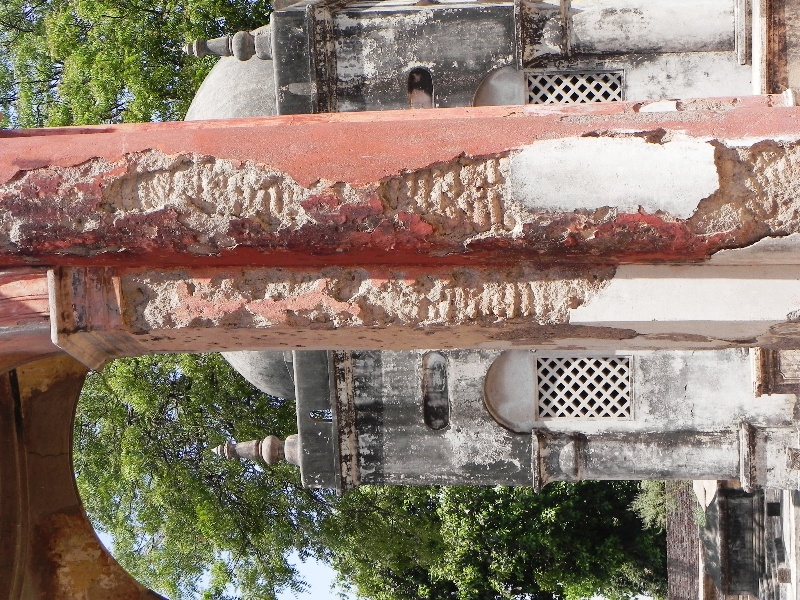Exposed Bricks: (377, 155, 519, 229)
Spalling: (117, 263, 625, 342), (2, 153, 361, 264), (688, 136, 800, 257)
